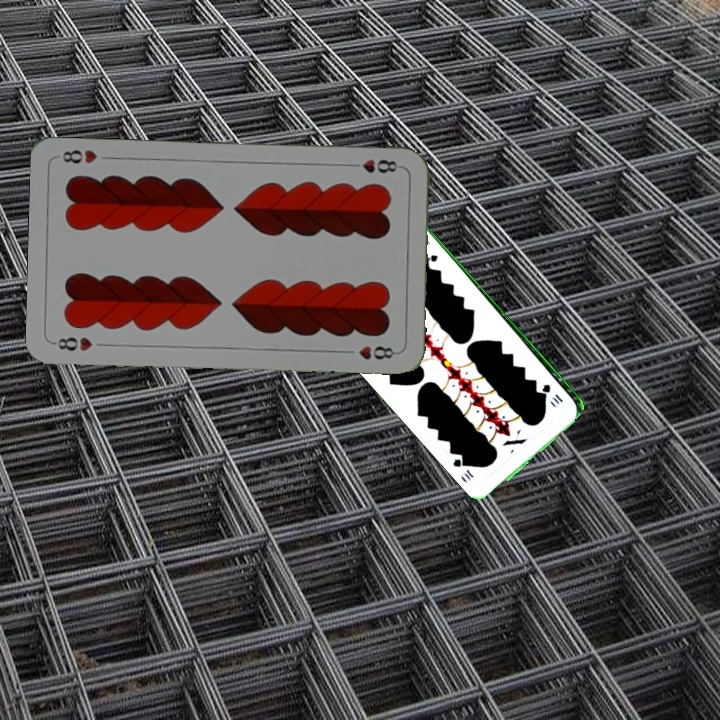G10: (539, 380, 566, 405)
H8: (345, 155, 404, 176), (50, 333, 95, 354)
